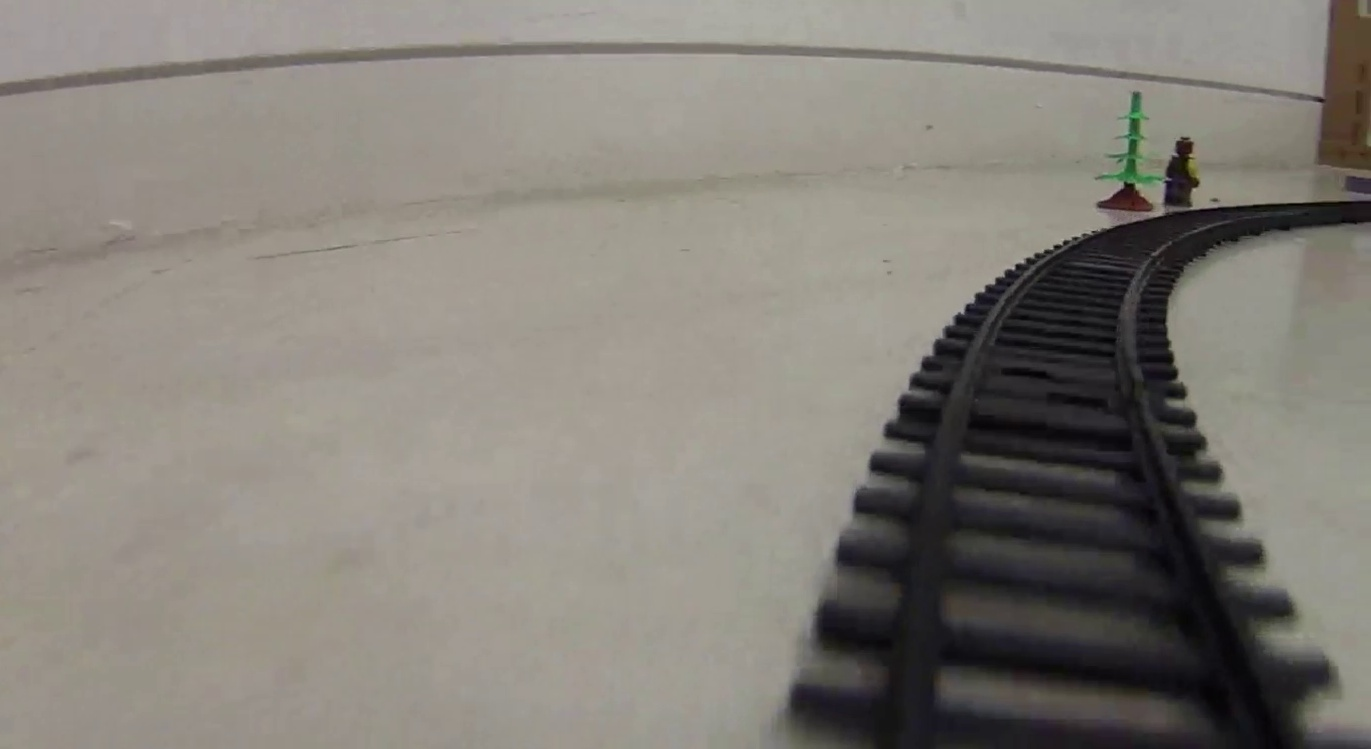people: (1163, 134, 1201, 207)
tree: (1094, 91, 1166, 214)
